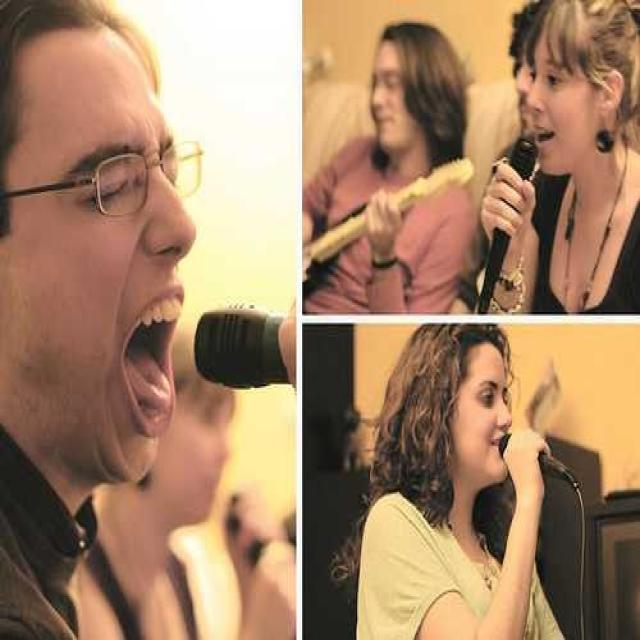microphone: (474, 136, 539, 312), (197, 303, 299, 394), (496, 430, 575, 484)
